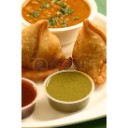samosa: (19, 20, 73, 76), (75, 18, 107, 81)
